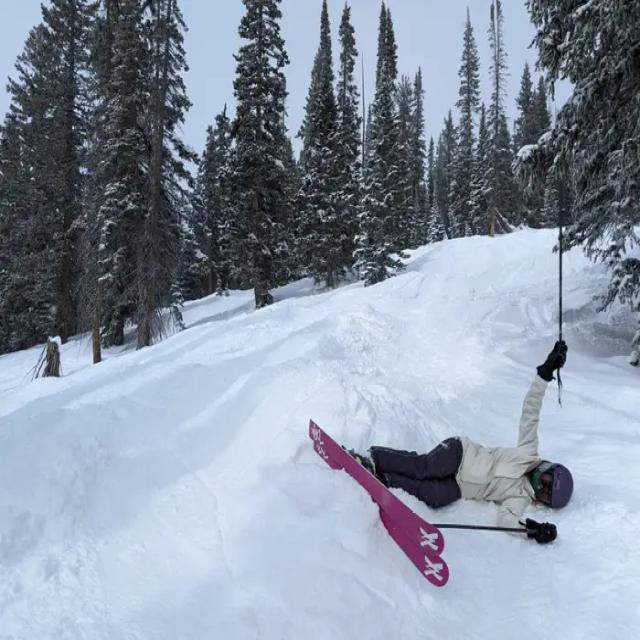skier: (279, 185, 592, 589)
